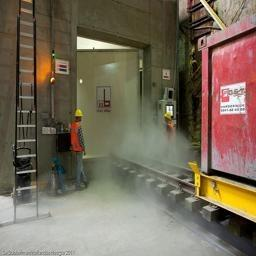hat: (71, 100, 89, 126), (161, 112, 175, 124)
vest: (67, 124, 94, 159), (163, 124, 181, 149)
